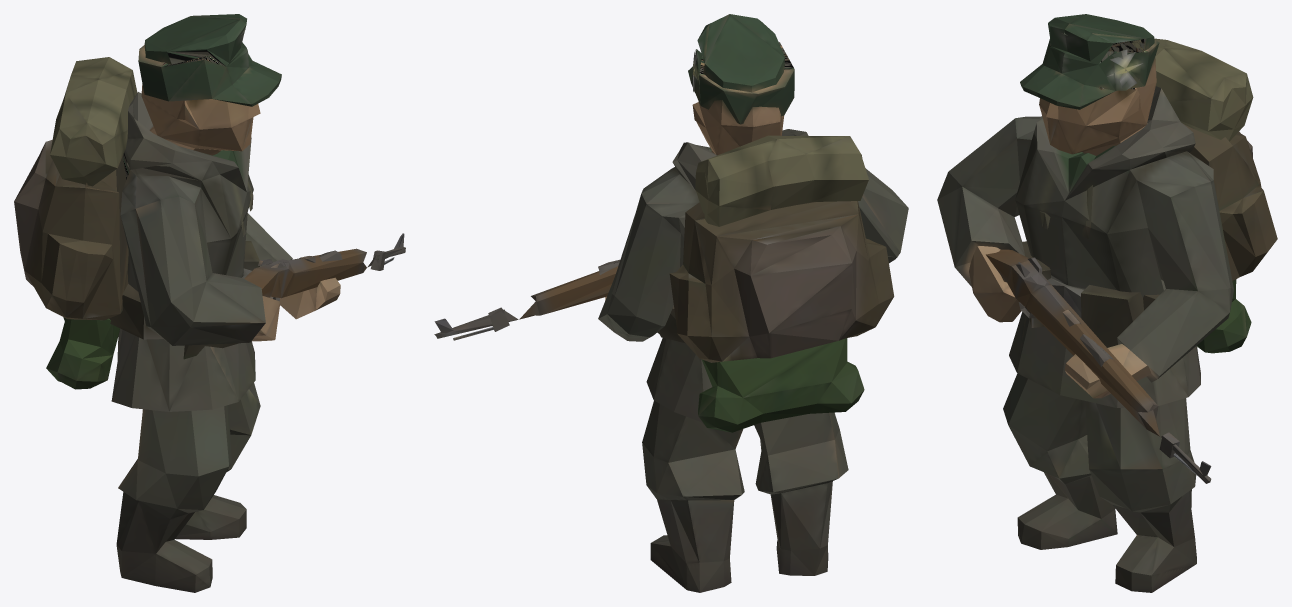
The model's file is bulge_german_mountain_2.glb.
3 views of the same model, side by side, from view 1: azimuth 30°, elevation 25°; view 2: azimuth 150°, elevation 25°; view 3: azimuth 270°, elevation 25° (orthographic). The views are drawn at different scales.
Visible parts, largest first — view 1: geometry_0; view 2: geometry_0; view 3: geometry_0.
Boxes of the visible parts, box(x1,y1,x2,y2) form: geometry_0: box(14, 14, 405, 592); geometry_0: box(434, 14, 908, 592); geometry_0: box(937, 14, 1277, 592).
Size of the model in its own units: 0.259 by 0.324 by 0.1819.
Materials: 1 (1 with a texture image).
